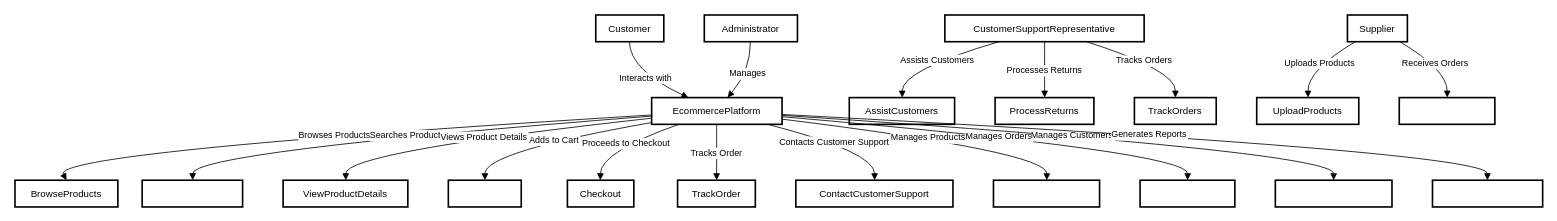
The diagram is 1557 pixels wide and 221 high, and some of its shapes have lost their labels. Each missing label, with the centre of its shape:
"AddToCart" belongs at point (484, 193).
"GenerateReports" belongs at point (1487, 193).
"ManageCustomers" belongs at point (1333, 193).
"ManageOrders" belongs at point (1187, 193).
"ManageProducts" belongs at point (1046, 193).
"ReceiveOrders" belongs at point (1446, 110).
"SearchProducts" belongs at point (192, 193).
